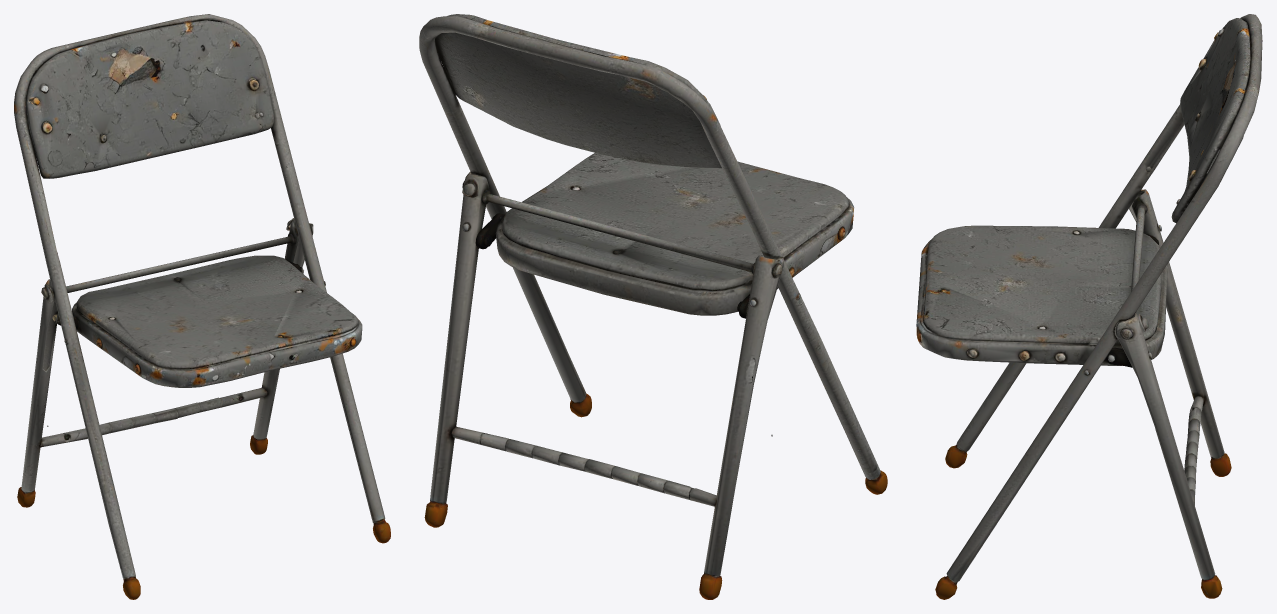
The model's file is prop_chair_metal.glb.
3 renders of one model, left to right at view 1: azimuth 30°, elevation 25°; view 2: azimuth 150°, elevation 25°; view 3: azimuth 270°, elevation 25°, orthographic. The views are drawn at different scales.
Parts seen in each view (by area): view 1: tripo_node_0aebe93f-2a64-4225-ad20-5d4b181de6b2; view 2: tripo_node_0aebe93f-2a64-4225-ad20-5d4b181de6b2; view 3: tripo_node_0aebe93f-2a64-4225-ad20-5d4b181de6b2.
Part boxes in pixels (<box>): tripo_node_0aebe93f-2a64-4225-ad20-5d4b181de6b2: <box>14,14,390,599</box>; tripo_node_0aebe93f-2a64-4225-ad20-5d4b181de6b2: <box>419,14,887,599</box>; tripo_node_0aebe93f-2a64-4225-ad20-5d4b181de6b2: <box>916,14,1262,599</box>.
Bounding box in the file's own units: 0.5441 × 0.86 × 0.5634.
Materials: 1 (1 with a texture image).
